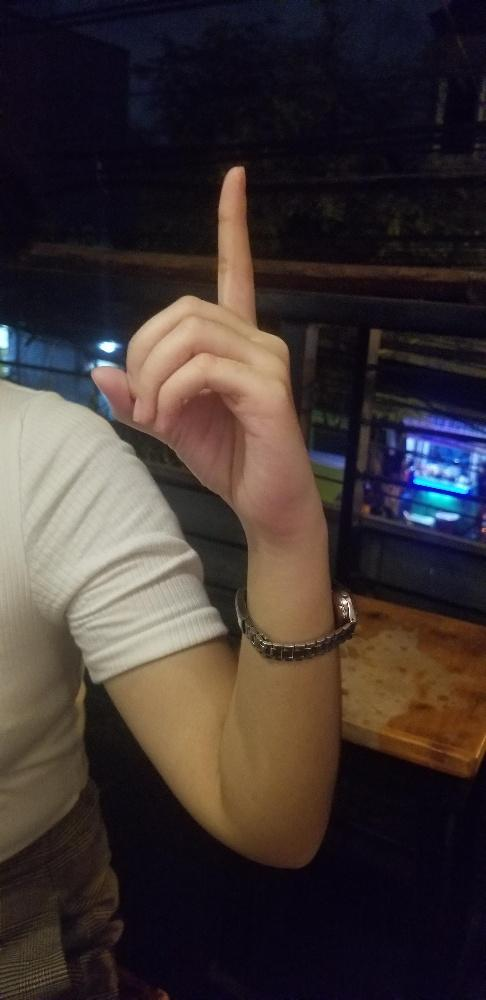d: (91, 163, 323, 523)
